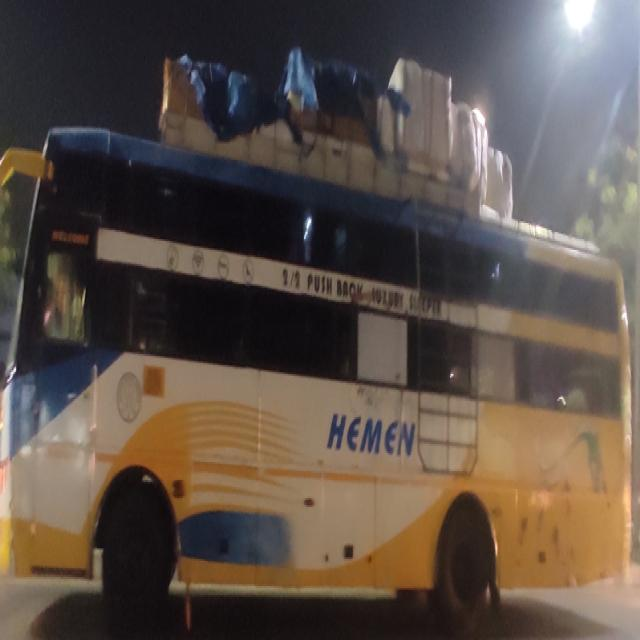bus: (3, 97, 634, 640)
